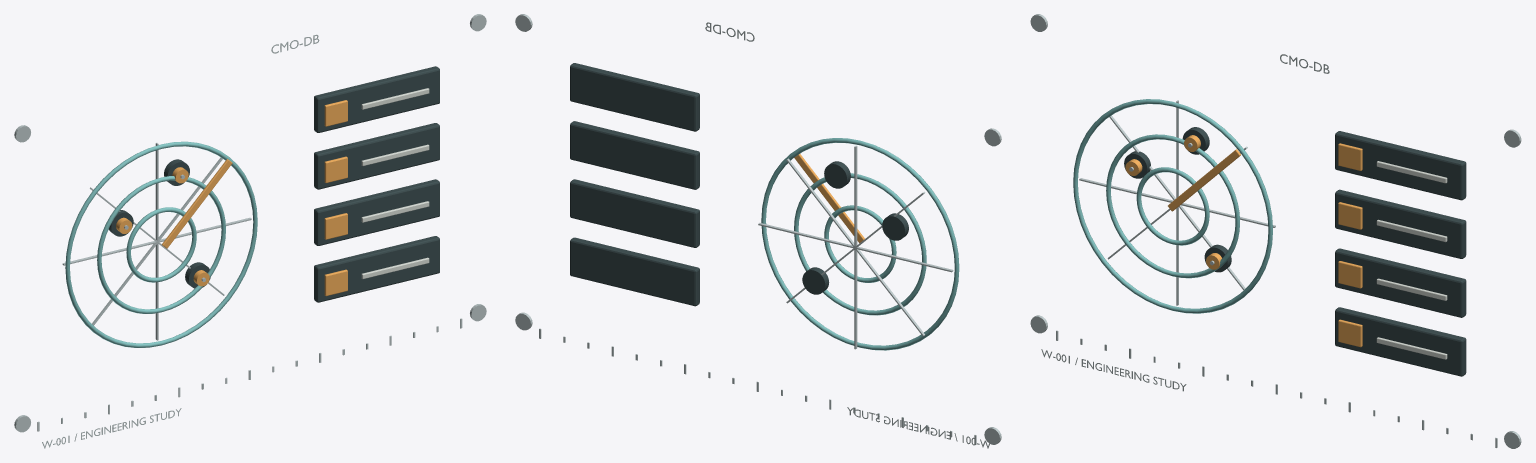
File: equipment-database.glb
3 renders of one model, left to right at view 1: azimuth 30°, elevation 25°; view 2: azimuth 150°, elevation 25°; view 3: azimuth 330°, elevation 25°, orthographic. The views are drawn at different scales.
Parts seen in each view (by area): view 1: optical-core__Project_Graphite, optical-lenses__Project_Trace, optical-lenses__Project_Silver, optical-core__Project_Amber, optical-lenses__Project_Ceramic, optical-lenses__Project_Amber; view 2: optical-core__Project_Graphite, optical-lenses__Project_Trace, optical-lenses__Project_Silver, optical-lenses__Project_Amber; view 3: optical-core__Project_Graphite, optical-lenses__Project_Trace, optical-lenses__Project_Silver, optical-core__Project_Amber, optical-lenses__Project_Ceramic, optical-lenses__Project_Amber.
Part boxes in pixels (x1,y1,x2,y2): optical-core__Project_Graphite: (108,66,439,302); optical-lenses__Project_Trace: (65,141,257,347); optical-lenses__Project_Silver: (14,14,486,448); optical-core__Project_Amber: (116,100,347,296); optical-lenses__Project_Ceramic: (361,88,429,278); optical-lenses__Project_Amber: (162,159,232,248); optical-core__Project_Graphite: (570,63,908,306); optical-lenses__Project_Trace: (761,138,959,350); optical-lenses__Project_Silver: (515,14,1001,448); optical-lenses__Project_Amber: (794,154,864,243); optical-core__Project_Graphite: (1124,127,1466,376); optical-lenses__Project_Trace: (1073,99,1272,313); optical-lenses__Project_Silver: (1030,14,1521,448); optical-core__Project_Amber: (1125,135,1362,347); optical-lenses__Project_Ceramic: (1376,161,1447,359); optical-lenses__Project_Amber: (1168,149,1240,211).
Bounding box in the file's own units: 4.01 × 2.83 × 0.1417.
